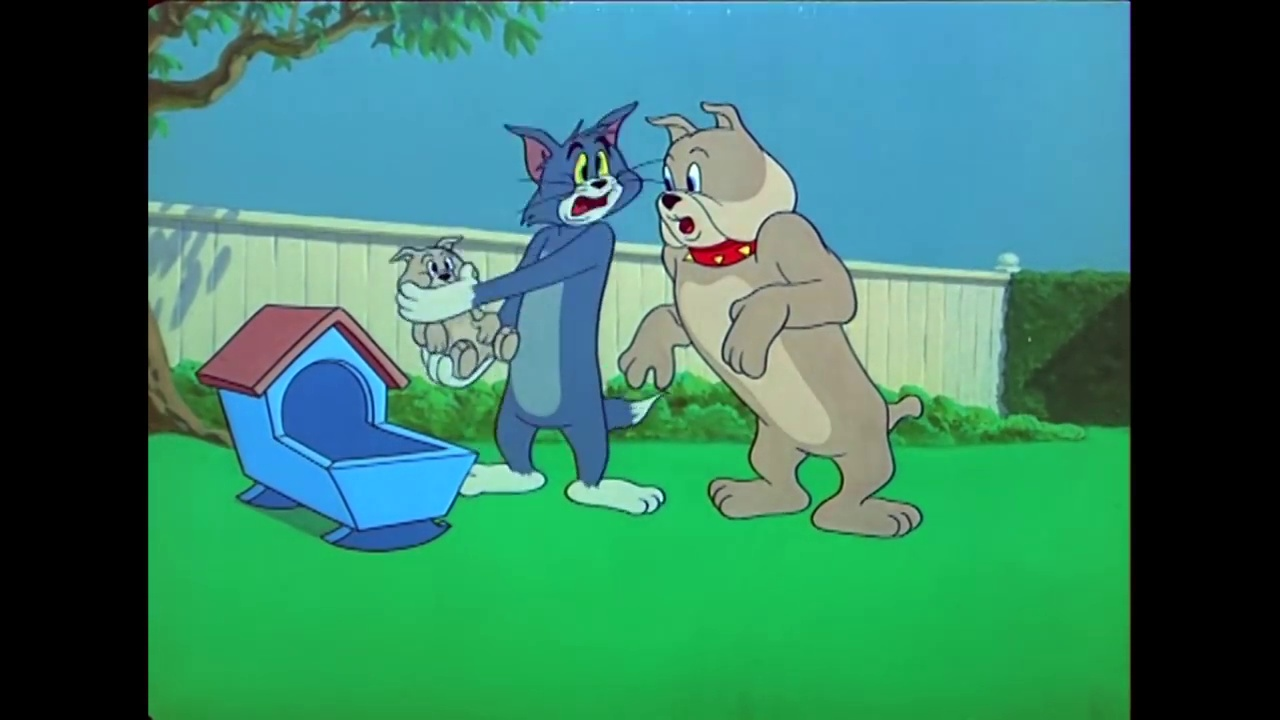spike: (641, 100, 801, 271)
tom: (499, 102, 645, 240)
